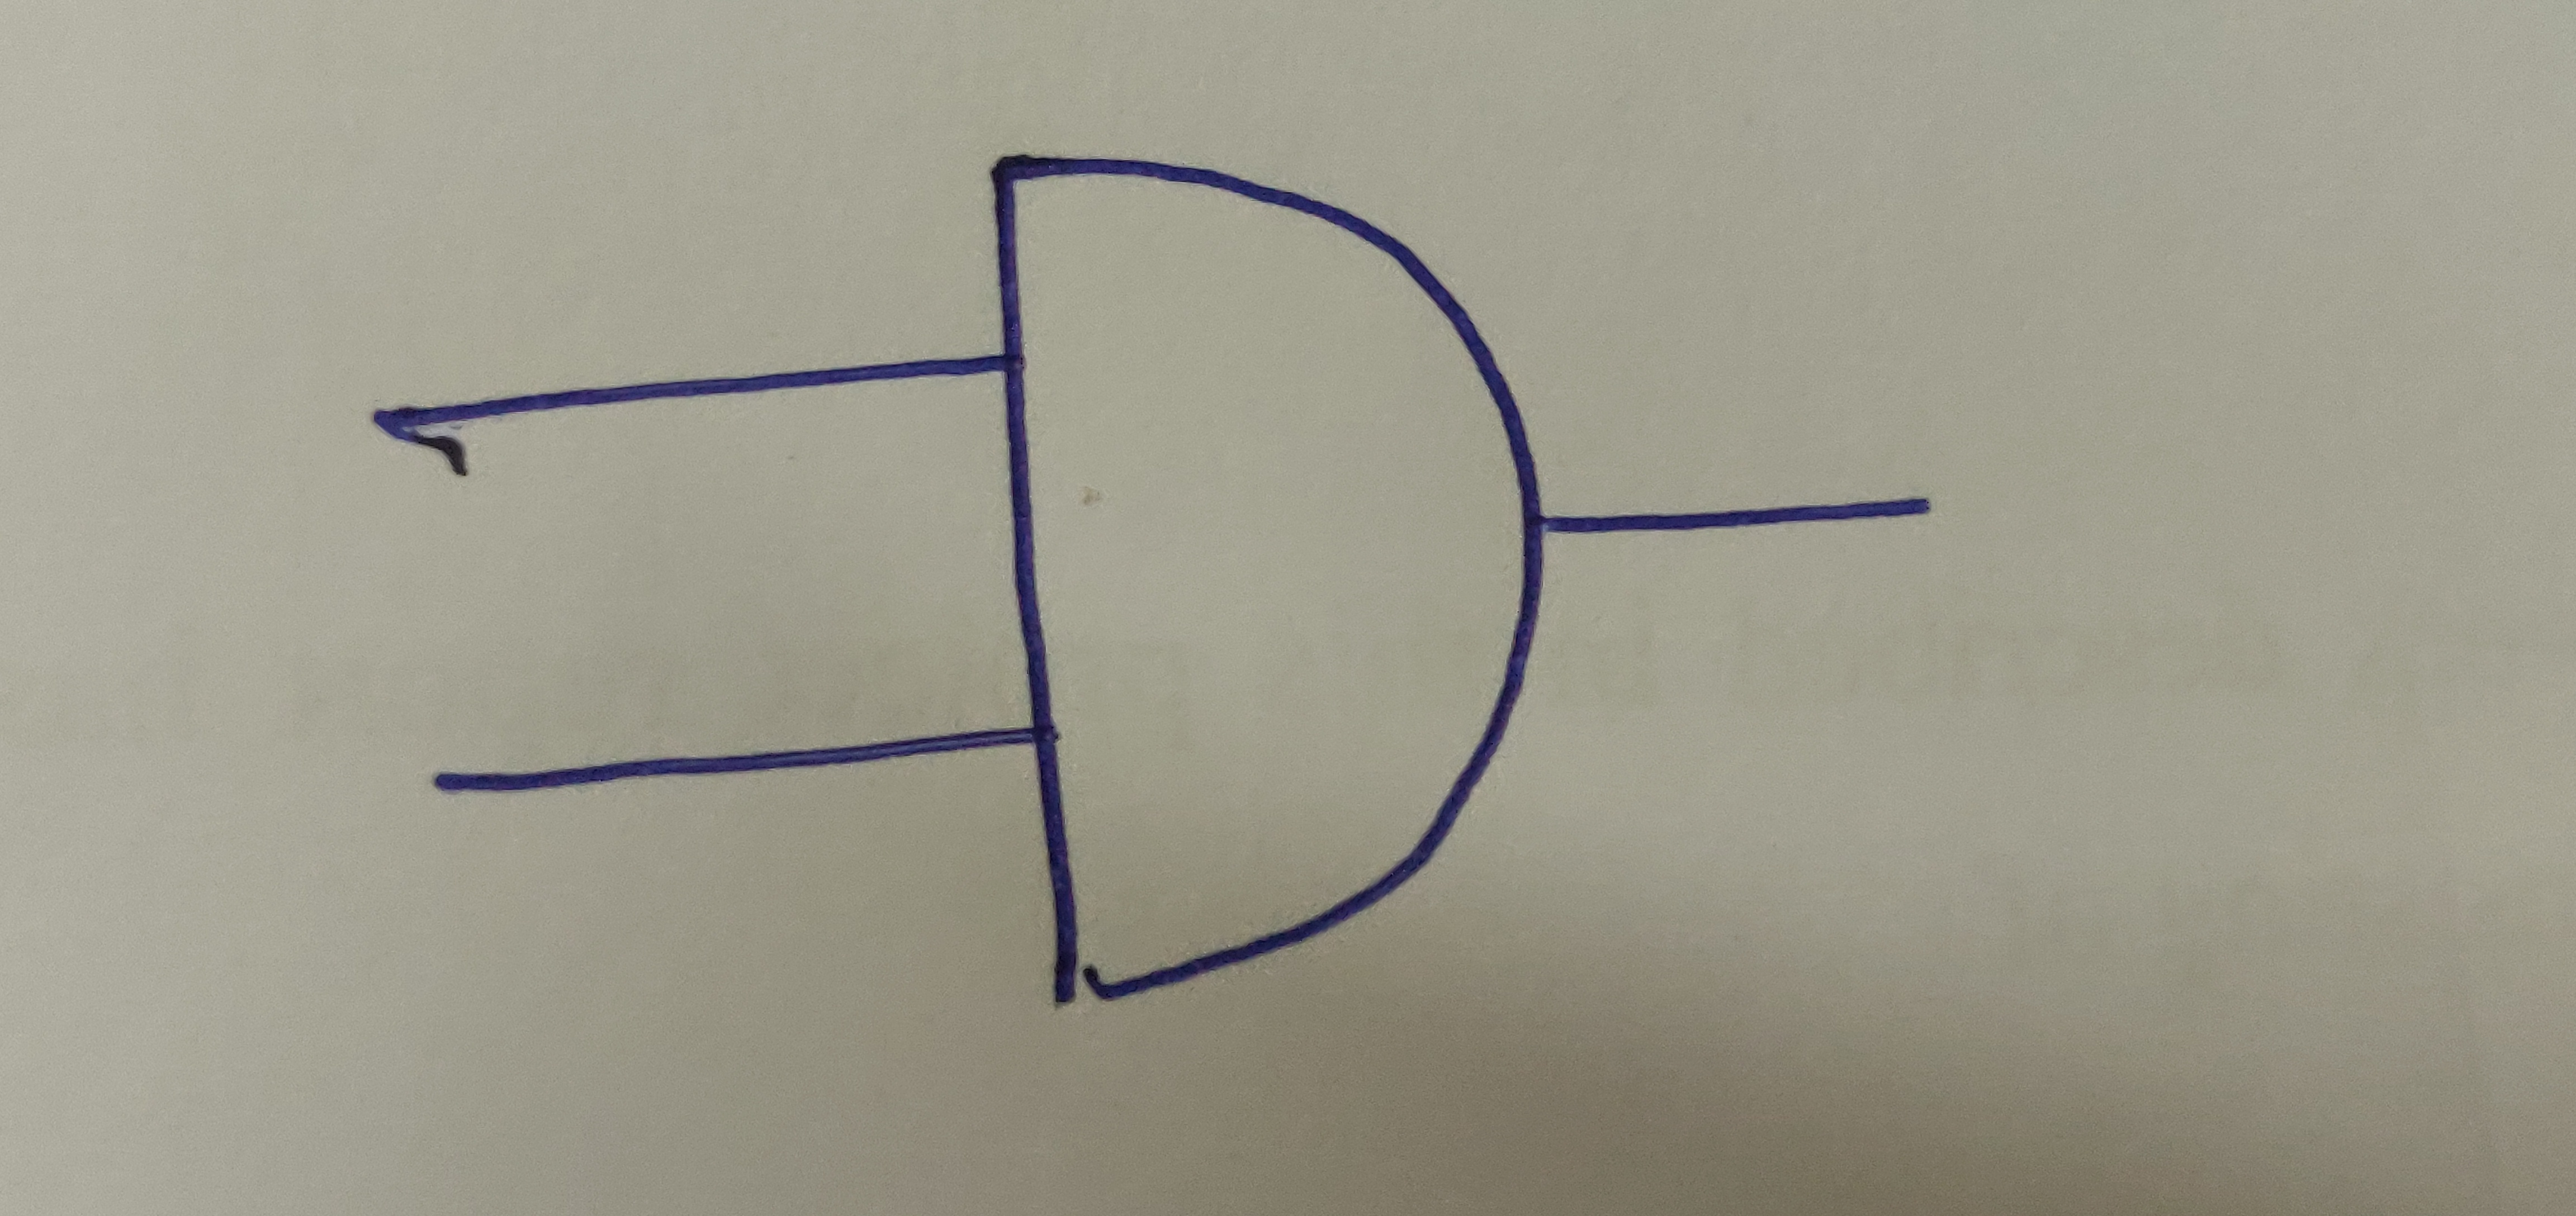and: (973, 146, 1548, 1004)
